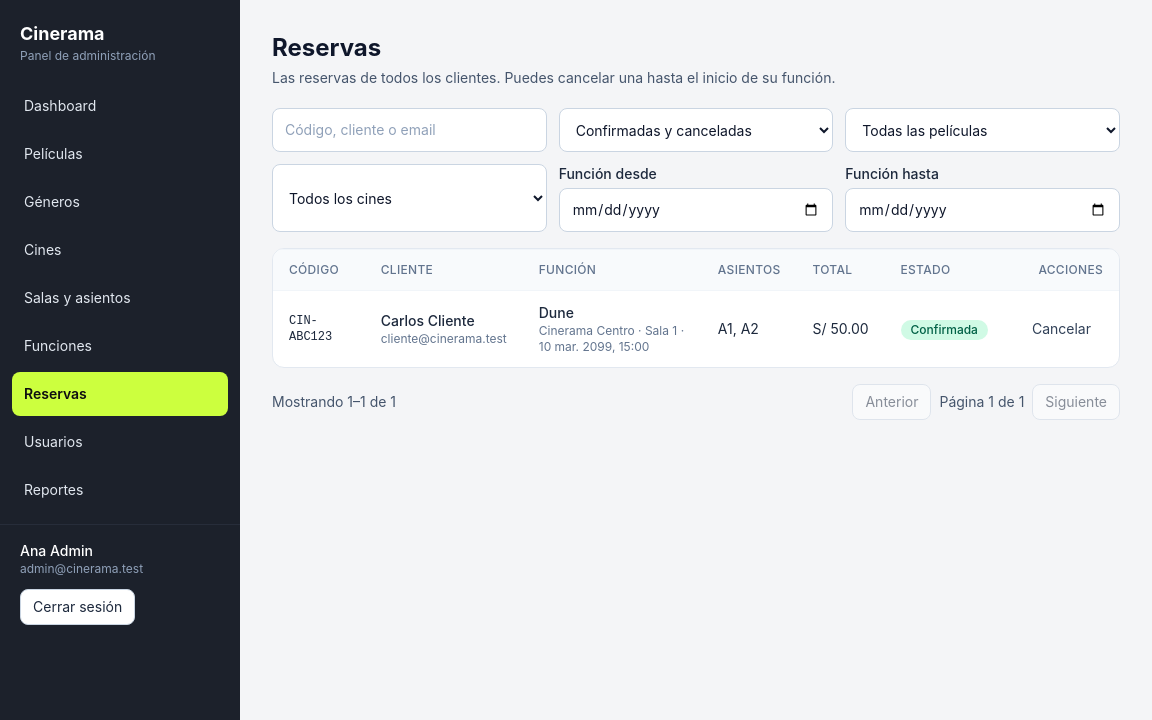
Test case: Reservas › cancela una reserva tras confirmar y avisa del resultado
Click the button with aria-label "Cancelar la reserva CIN-ABC123" at (1062, 329), box [1020,311,1103,347]
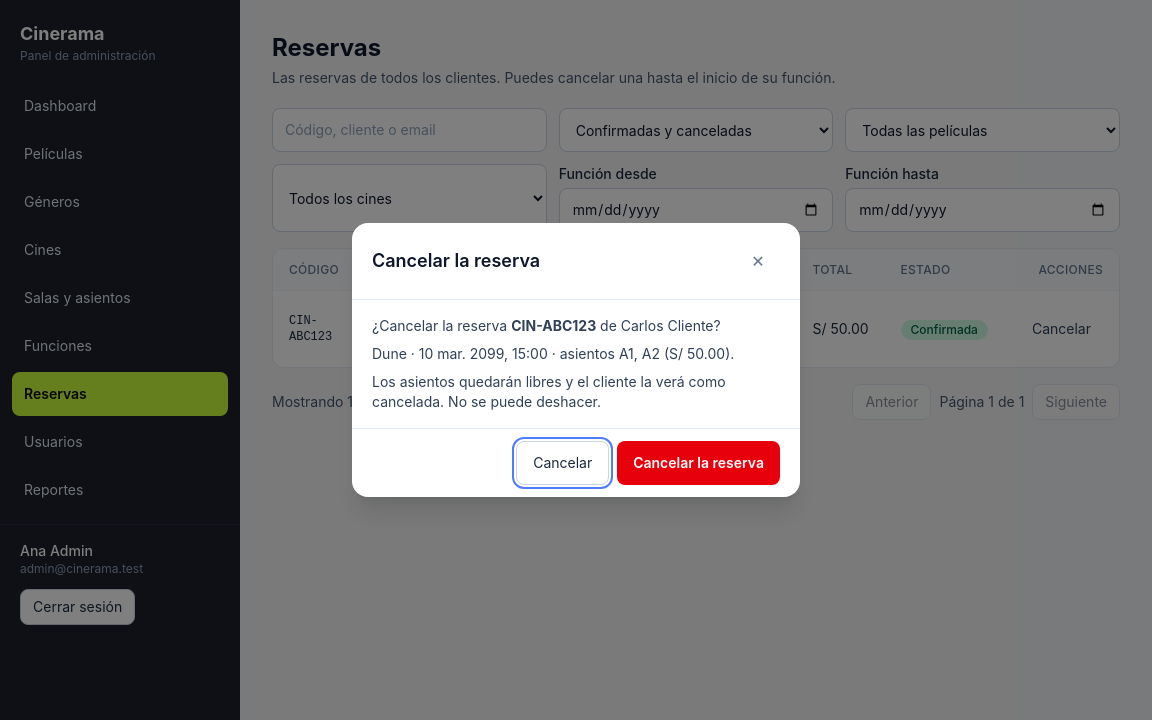
Expected: the dialog "Cancelar la reserva" shows "A1, A2", [619,345,660,362]
Click the button "Cancelar la reserva" at (699, 463), box [617,441,780,485]
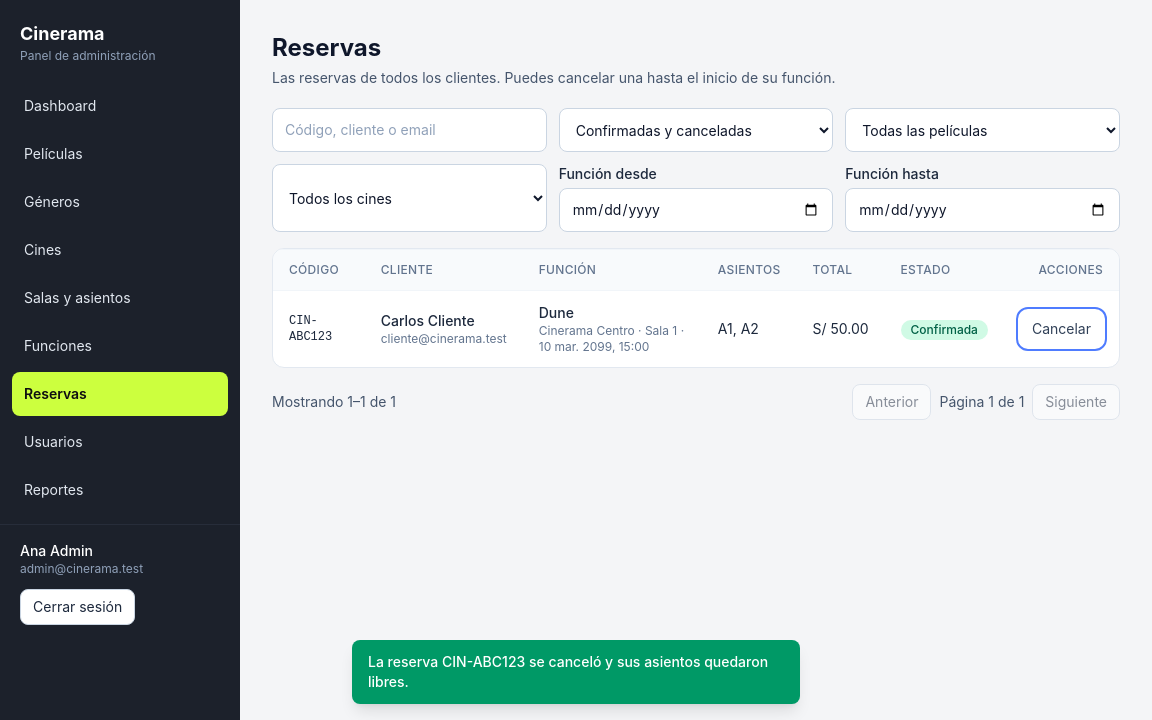
Expected: the text "La reserva CIN-ABC123 se canceló y sus asientos quedaron libres." is shown, [352,640,800,704]
